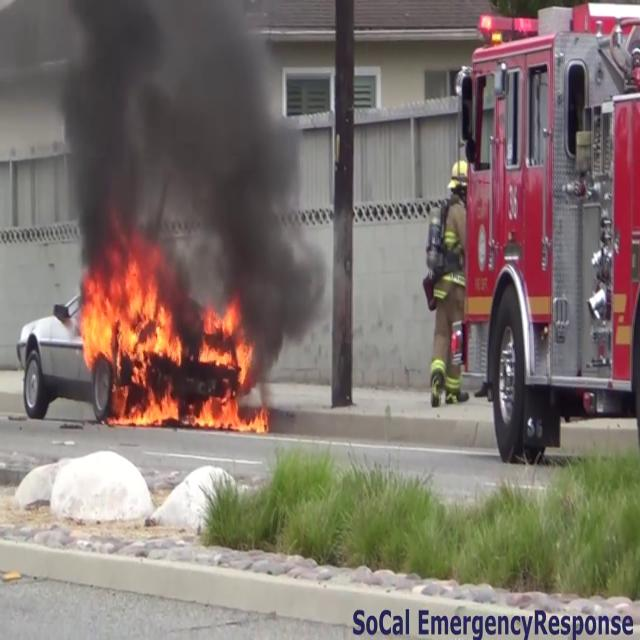Fire: (76, 252, 184, 420), (198, 299, 262, 416)
Smoke: (38, 0, 332, 308)
